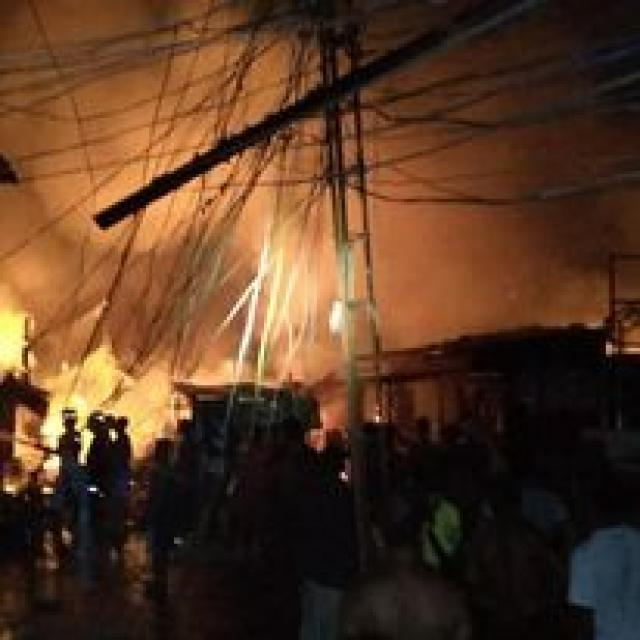Fire: (0, 302, 215, 466)
Smoke: (16, 5, 317, 249)
